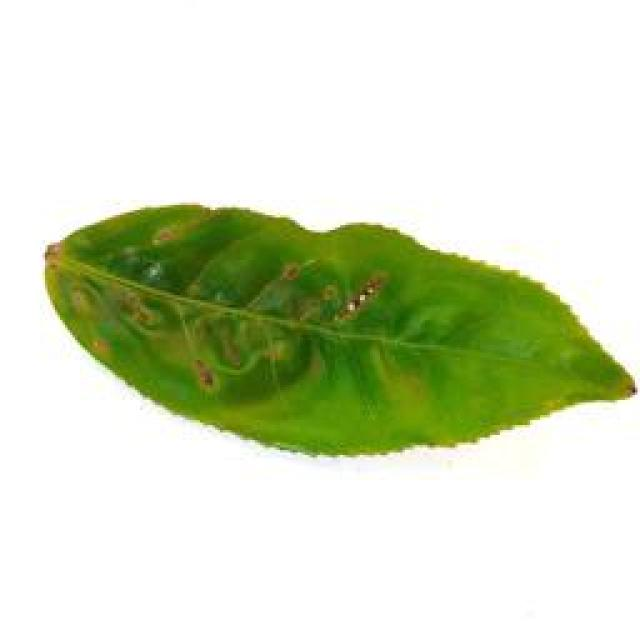Helopeltis: (27, 195, 634, 457)
